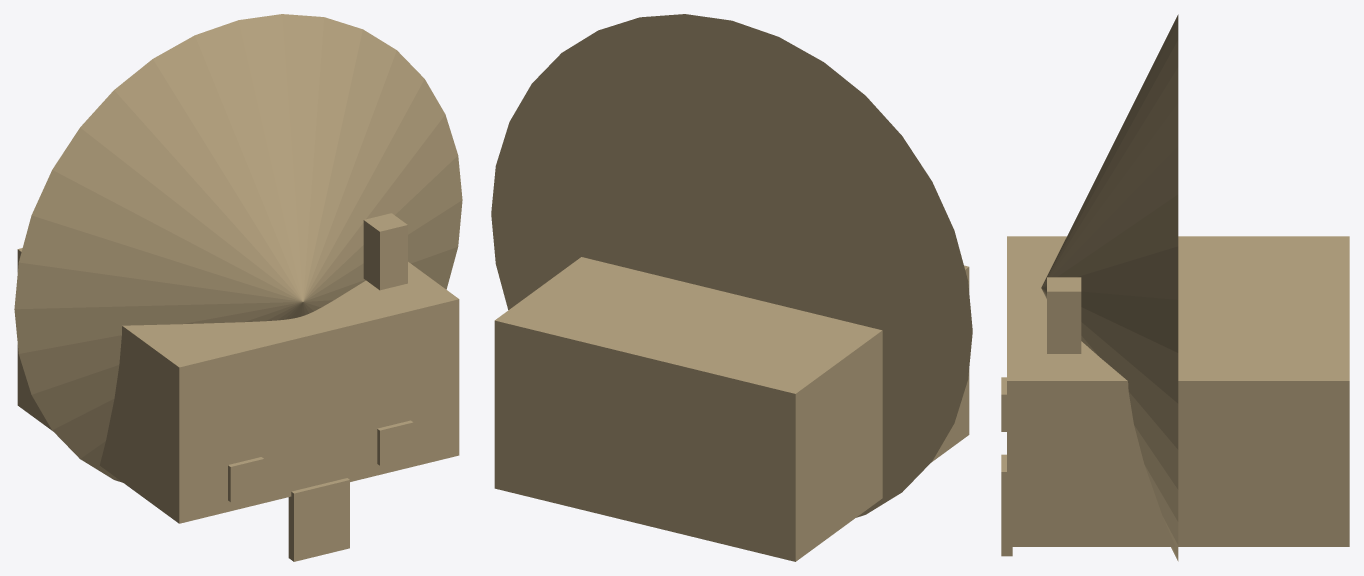
Rendered from zovix_ultimate_f4721929.glb.
3 views of the same model, side by side, from view 1: azimuth 30°, elevation 25°; view 2: azimuth 150°, elevation 25°; view 3: azimuth 270°, elevation 25° (orthographic). The views are drawn at different scales.
Parts seen in each view (by area): view 1: world; view 2: world; view 3: world.
Boxes of the visible parts, <box> form: world: <box>14,14,462,561</box>; world: <box>491,14,972,561</box>; world: <box>1001,14,1349,561</box>.
Bounding box in the file's own units: 2.4 × 2.42 × 1.52.
